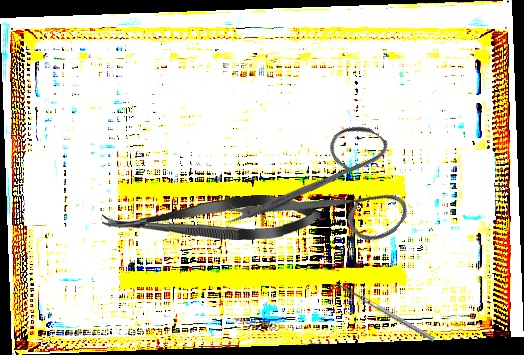Iris Scissors: (221, 89, 436, 307)
Micro Scissor: (101, 193, 322, 245)
Spatula Surgical: (329, 279, 436, 346)
